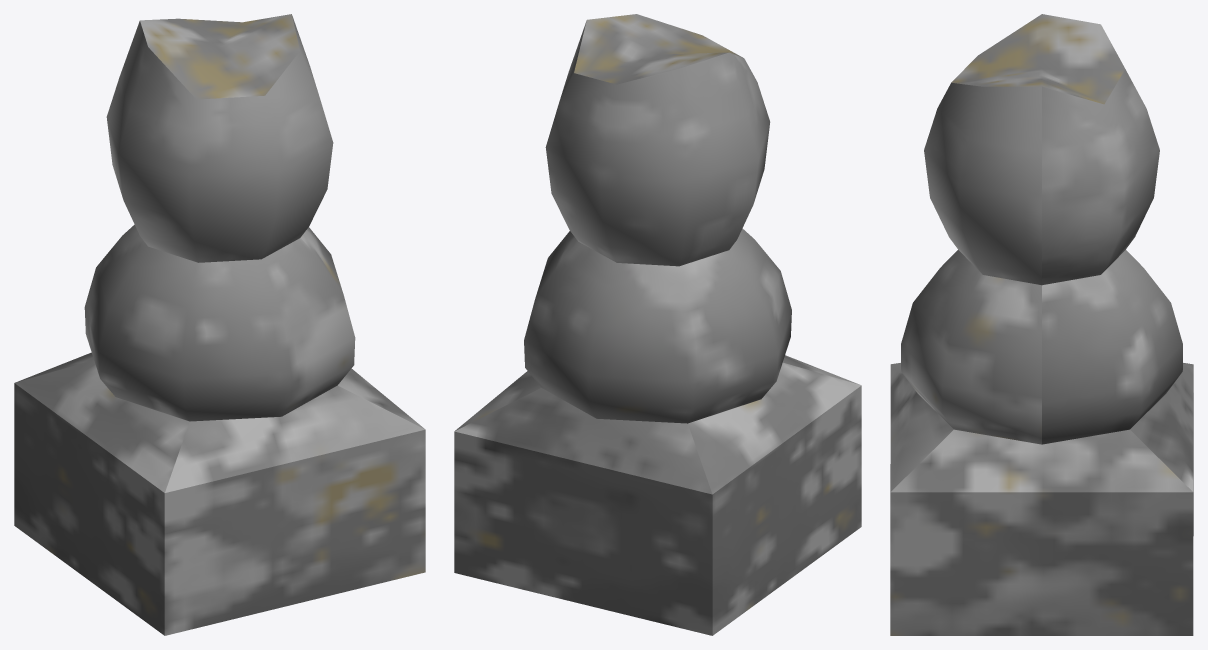
File: Broken_Railing_5_FINAL.fbx
3 renders of one model, left to right at view 1: azimuth 30°, elevation 25°; view 2: azimuth 150°, elevation 25°; view 3: azimuth 270°, elevation 25°, orthographic.
Visible parts, largest first — view 1: Broken_Railing_5; view 2: Broken_Railing_5; view 3: Broken_Railing_5.
Part boxes in pixels (box(x1,y1,x2,y2)): Broken_Railing_5: box(14, 14, 425, 635); Broken_Railing_5: box(454, 14, 861, 635); Broken_Railing_5: box(890, 14, 1193, 635).
Size of the model in its own units: 12.93 by 24.6 by 12.93.
